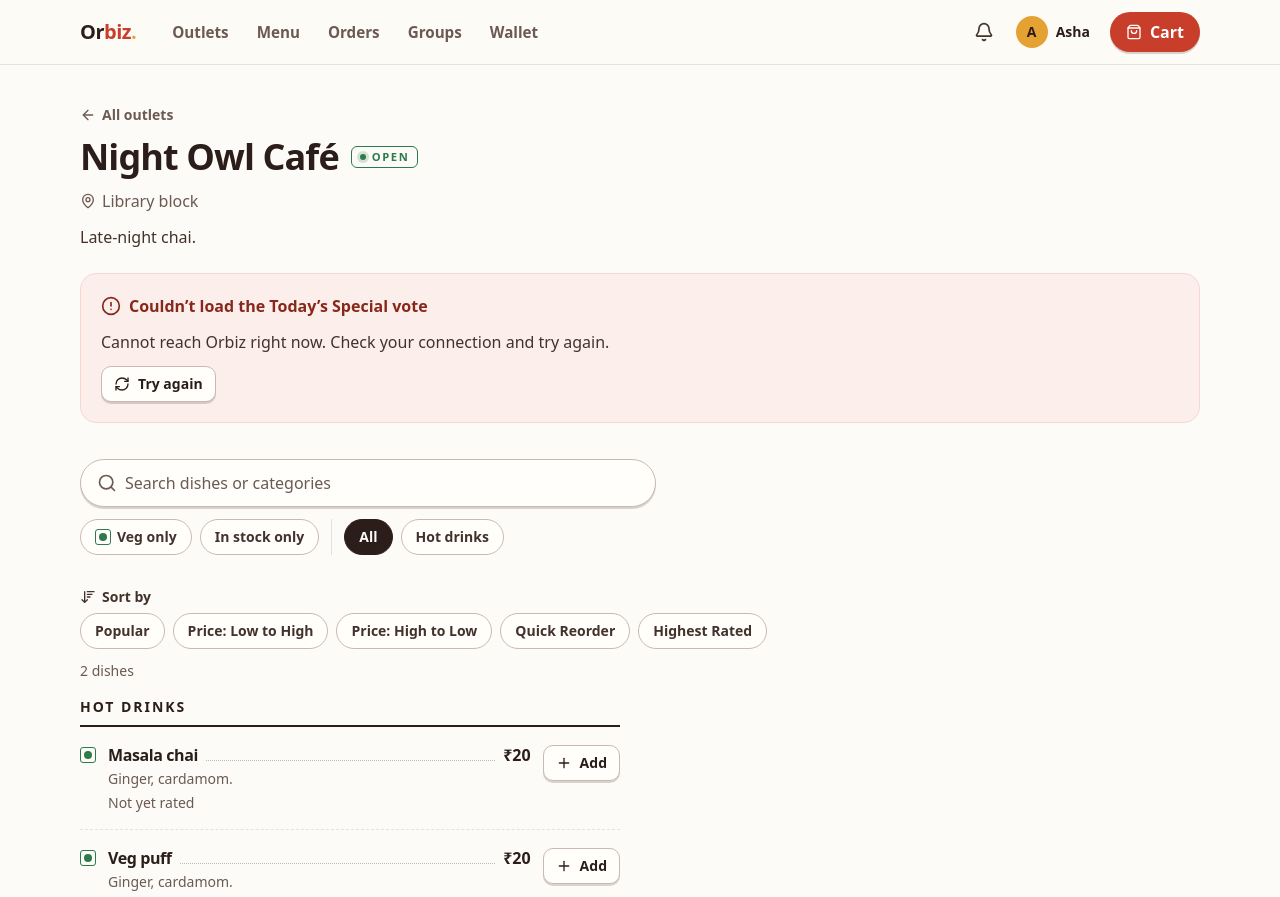
Test: outlet menu sorting › shows one ranked list with real popularity and the student’s own history
The width and height of the screenshot is (1280, 897).
Click the button "Popular": [122, 631] box [80,613,165,649]
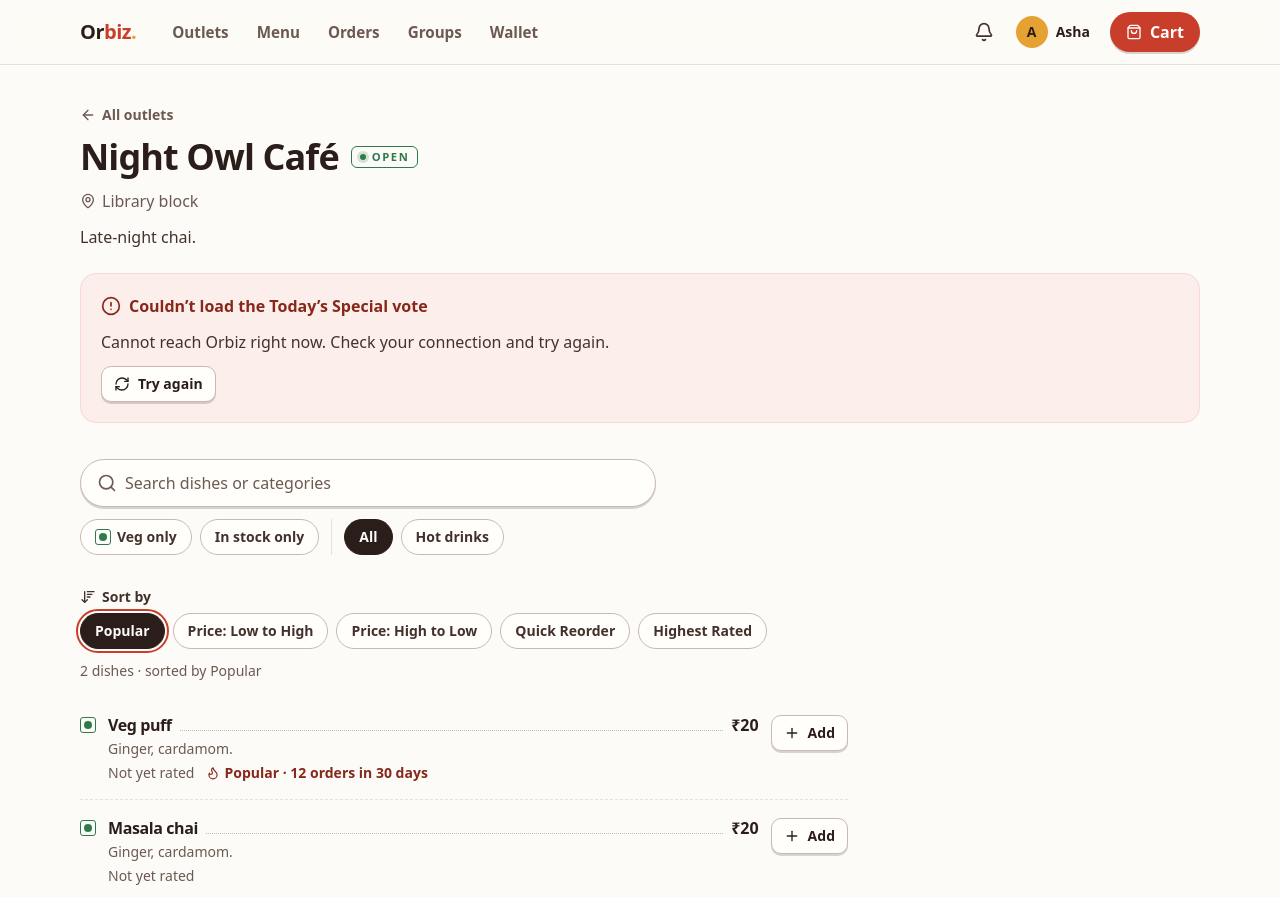
Expected: the text "Popular · 12 orders in 30 days" is shown, [206,763,428,783]
Expected: the text "2 dishes · sorted by Popular" is shown, [80,661,262,680]
Click the button "Quick Reorder": [565, 631] box [500,613,630,649]
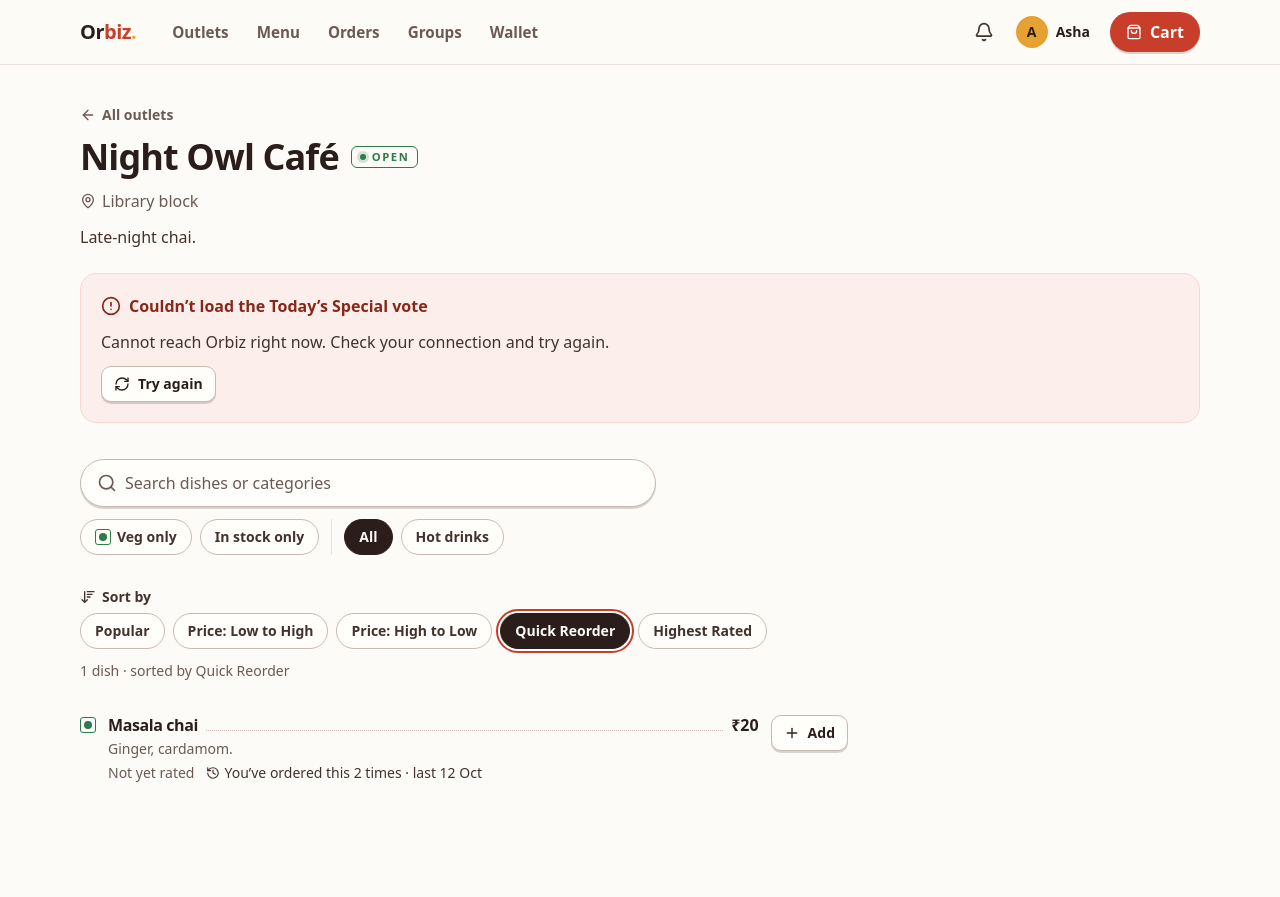
Expected: the text "You’ve ordered this 2 times · last 12 Oct" is shown, [206,763,482,783]
// Choosing the active sort again goes back to the usual grouped menu.
Click the button "Quick Reorder": [565, 631] box [500,613,630,649]
(page scrolled)
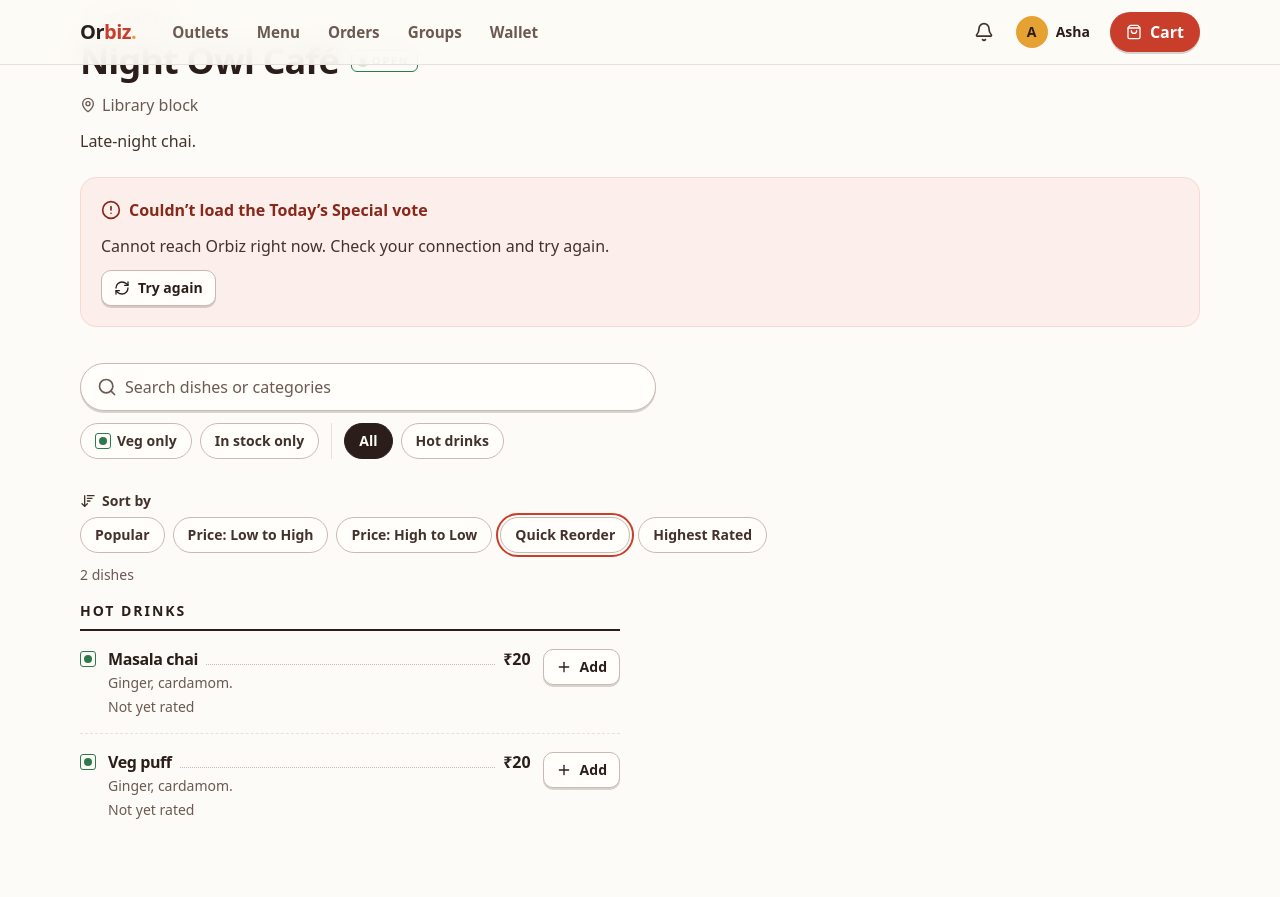
Expected: the element "Hot drinks" is shown, [80,601,620,836]
